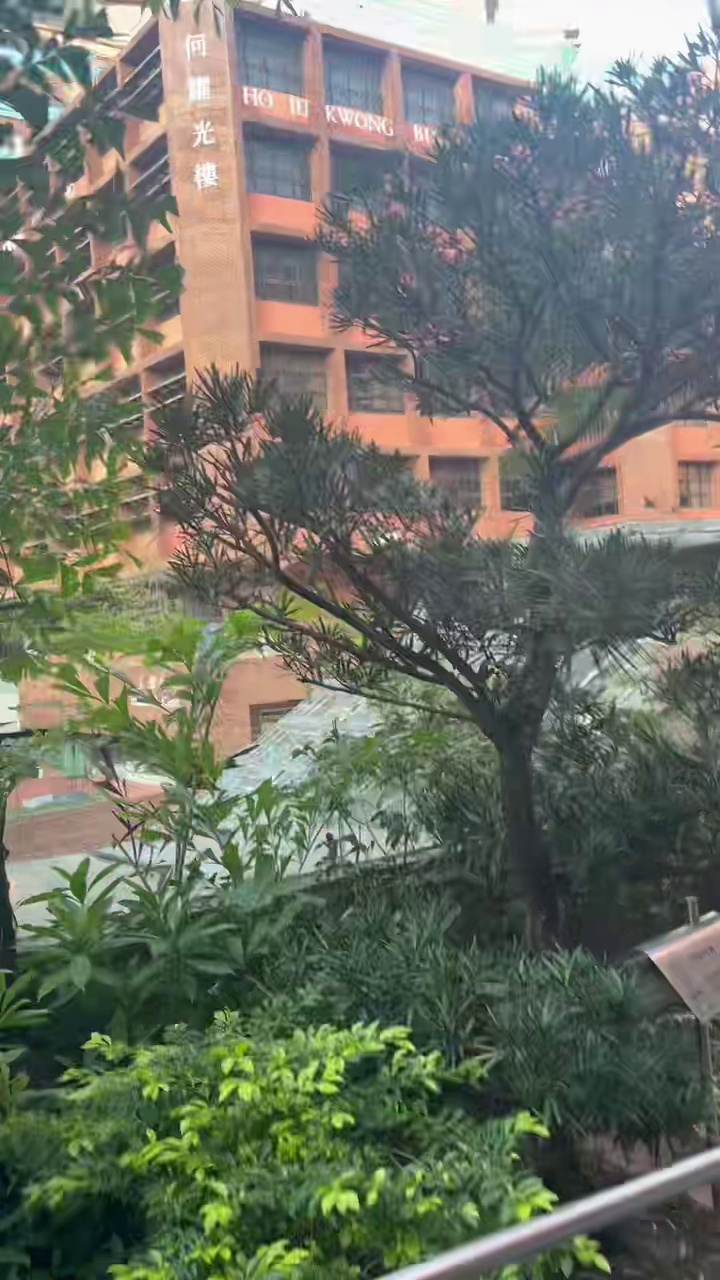Podocarpus macrophyllus: (157, 34, 719, 947)
